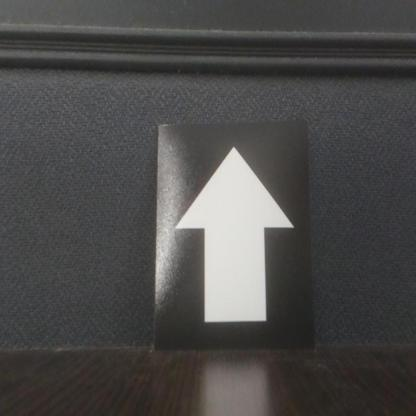up: (159, 125, 312, 346)
